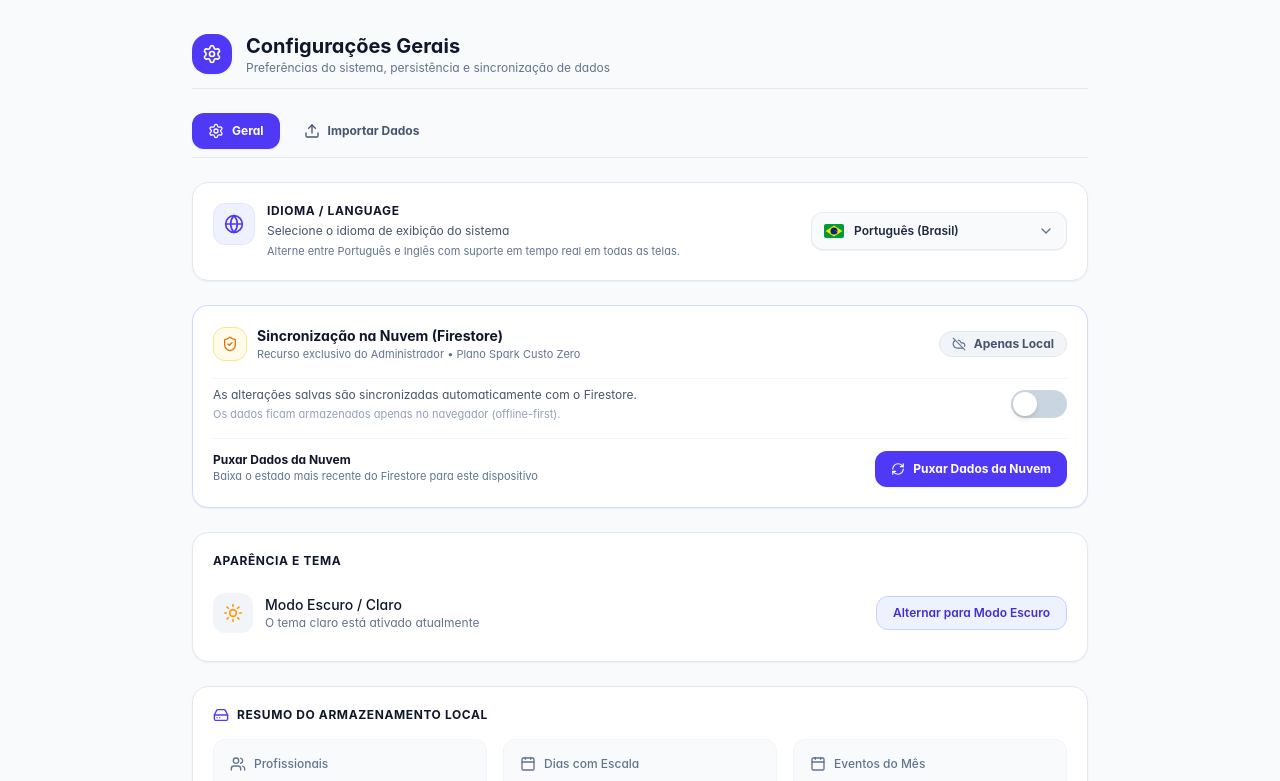
Test: SettingsView - enable cloud sync › asks which data wins before enabling, without sending anything
The image size is (1280, 781).
Step 1. Click the switch with test id "toggle-sync-button" → (1039, 404), box [1011,390,1067,418]
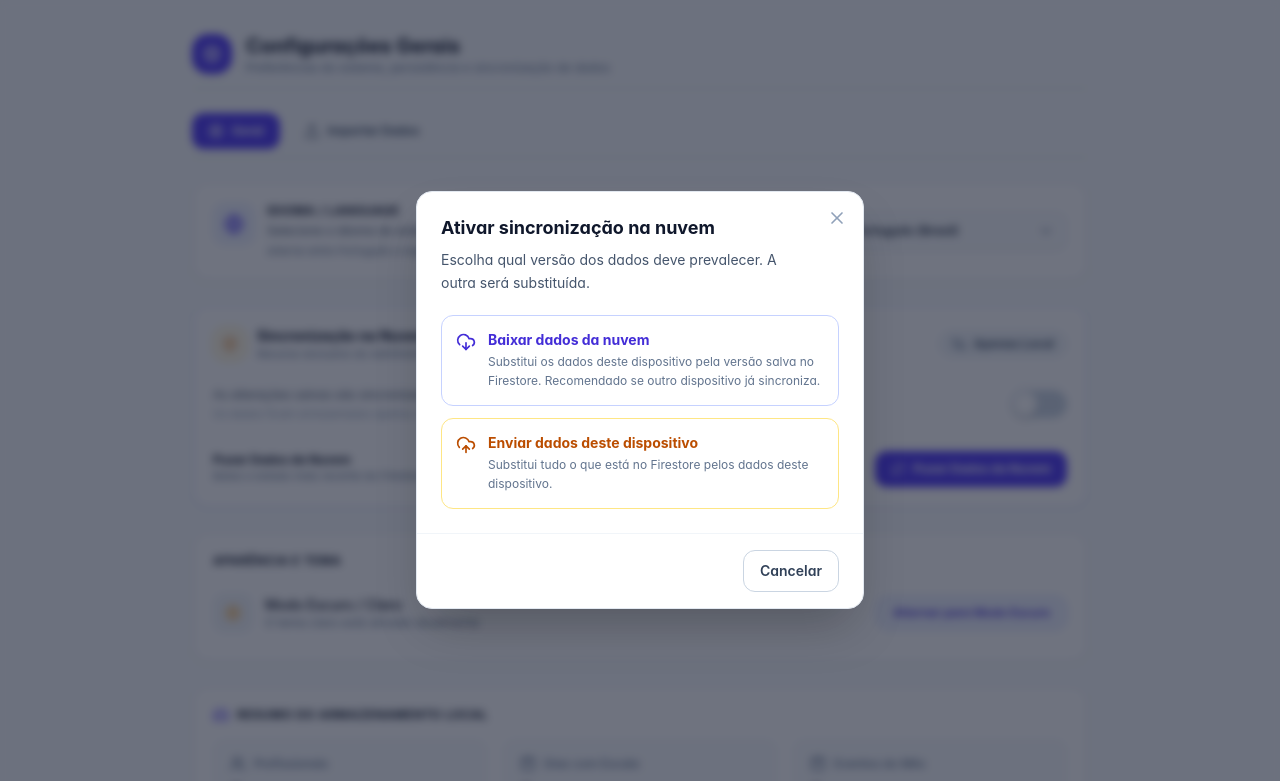
Step 2. Click the button "Cancelar" → (791, 571), box [743,550,839,592]
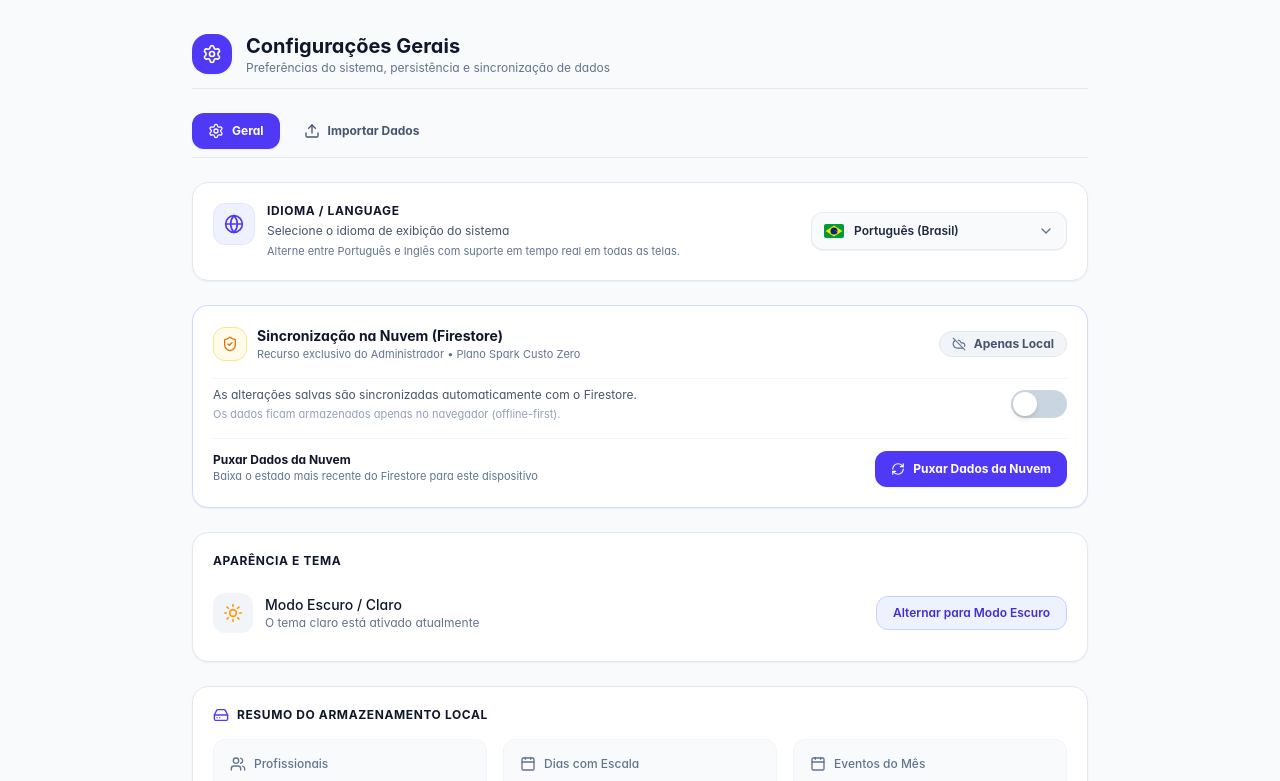
Expected: the heading "Ativar sincronização" is gone
